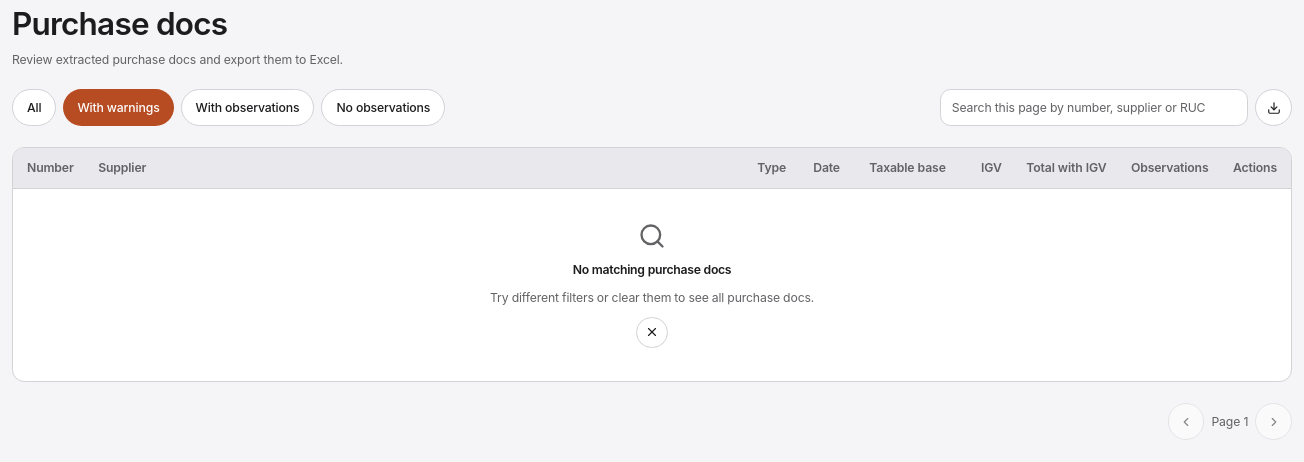
Test: clears active filters from /?obs=warning
This screenshot has width=1304, height=462.
What coordinates should you click on to do the following:
click the button named "Clear filters"
I would click on:
 (652, 332)
Its box is [636,316,668,348].
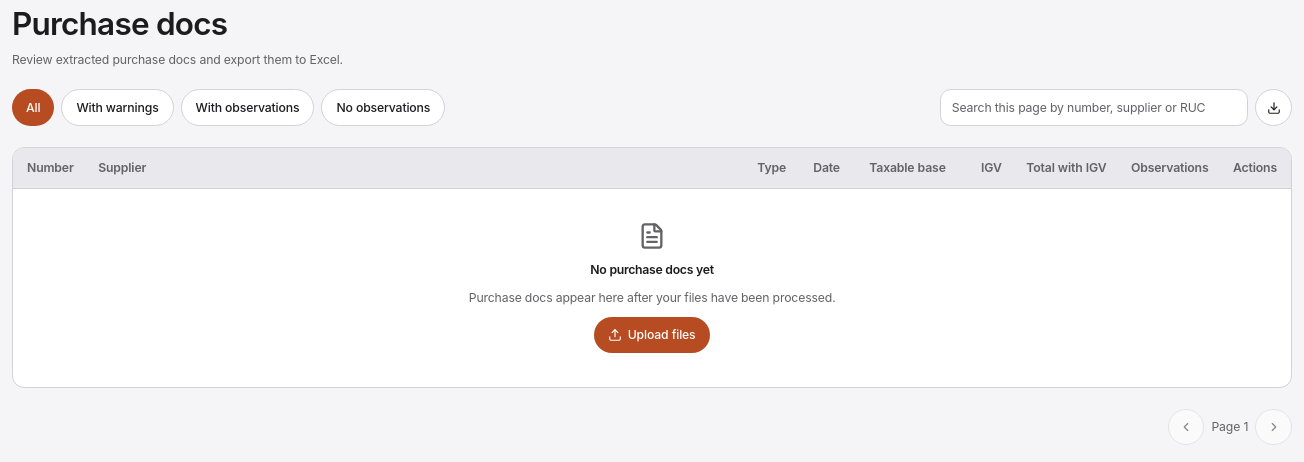
Expected: the link "Upload files" is shown, [594,316,710,353]
